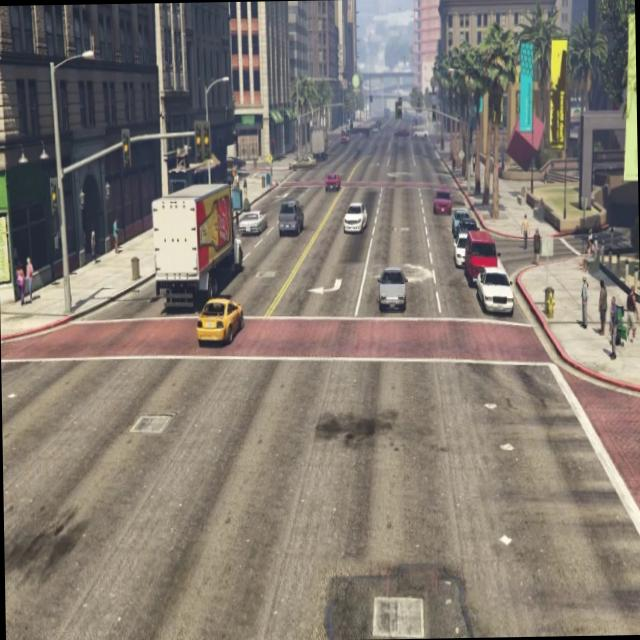Yellow-Signal: (191, 111, 213, 170), (118, 122, 136, 174), (46, 172, 60, 222)
